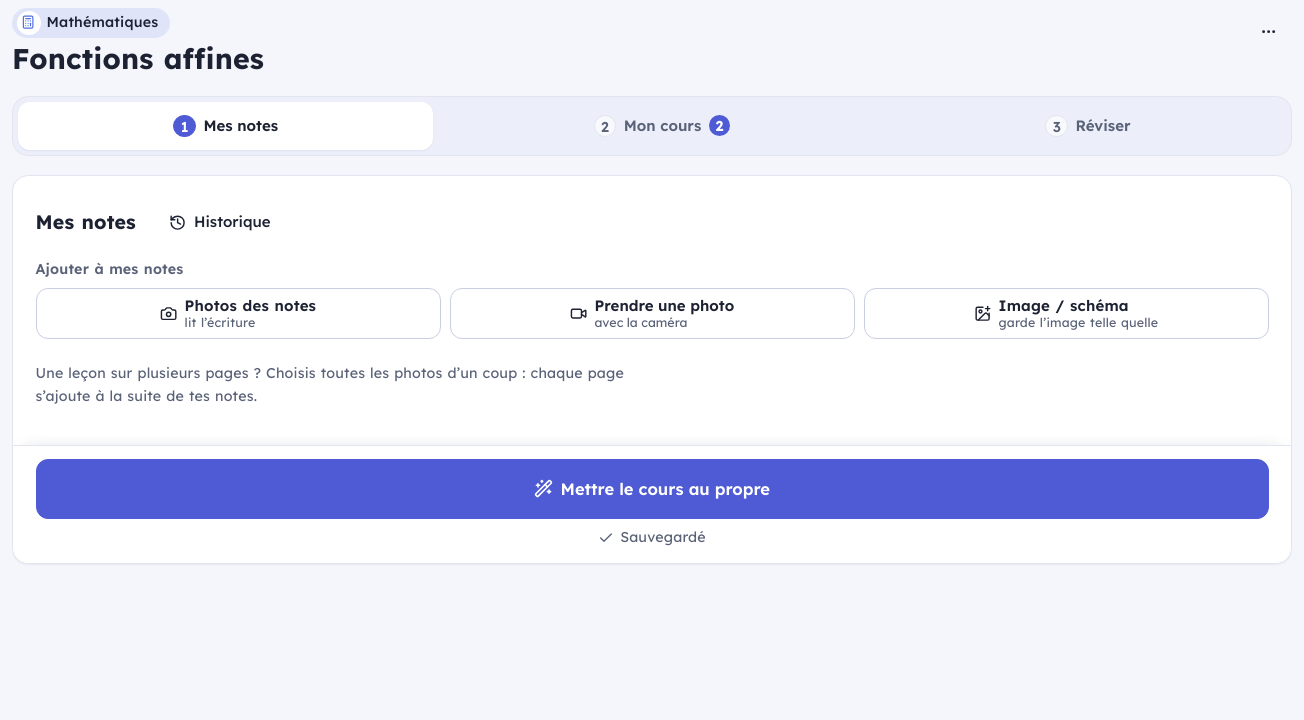
ChapterView › renomme le chapitre depuis le menu
Click the button named "Plus d" at (1269, 32), box [1246,8,1292,56]
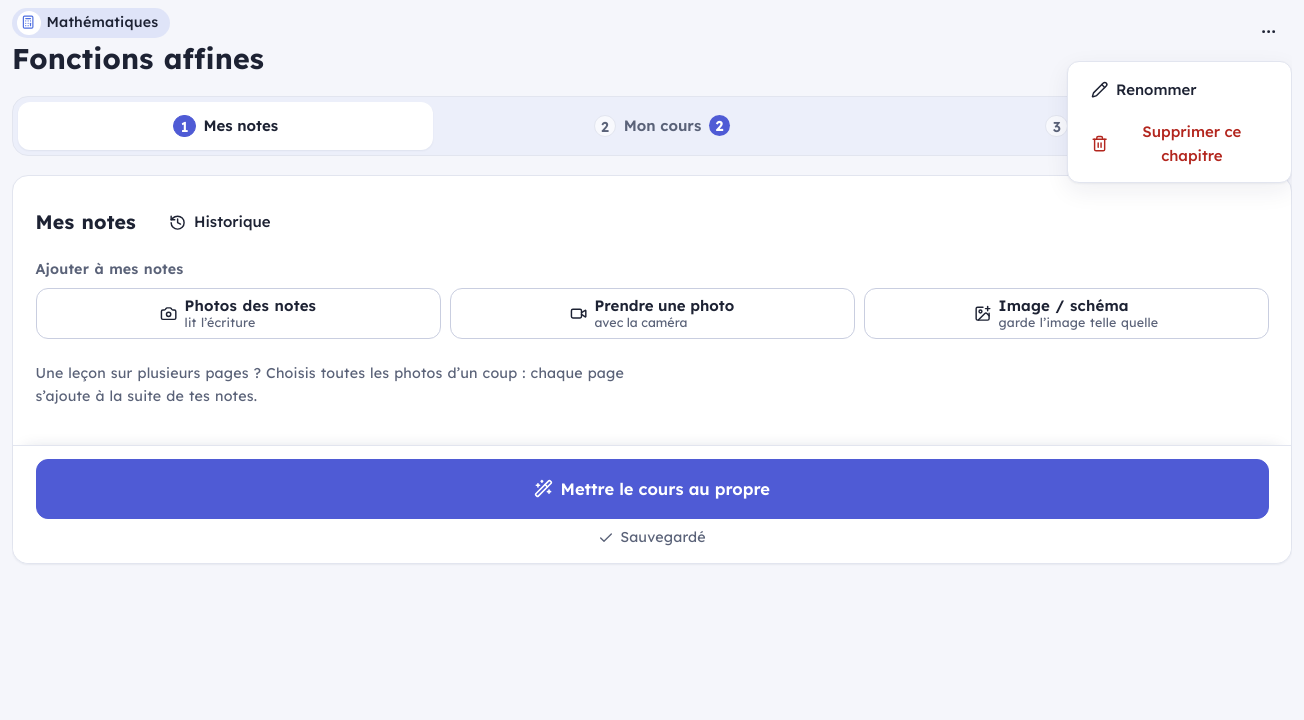
Click the button "Renommer" at (1180, 90), box [1074,68,1285,112]
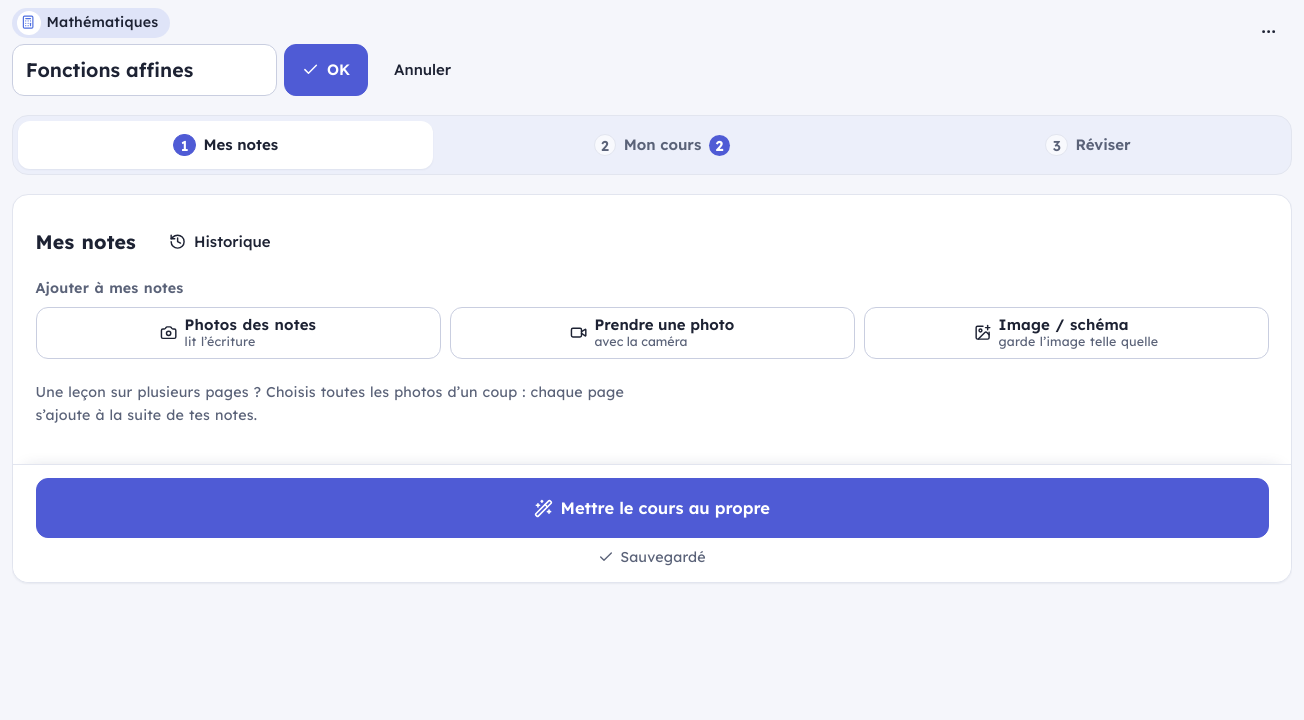
Replace the text in the field with id "rename" with "Les fonctions affines" at (144, 70), box [12,44,276,96]
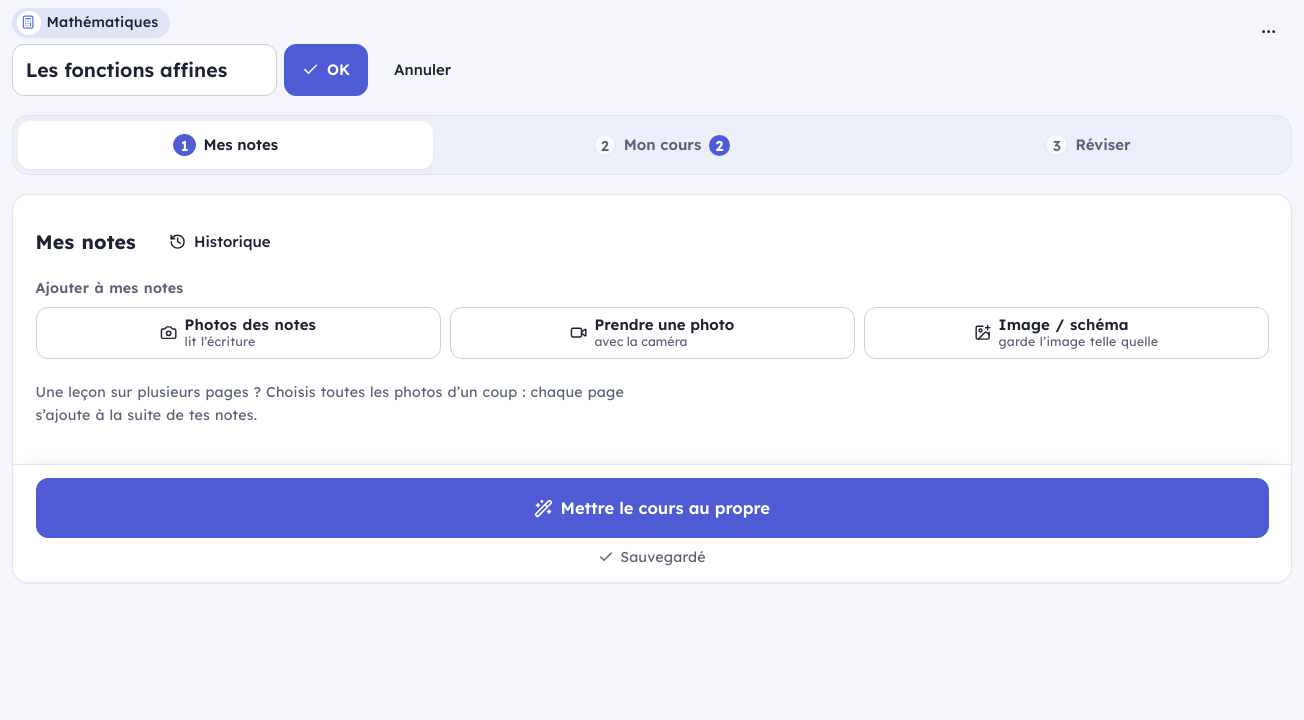
Submit the form with class "rename-form", box [12,44,469,96]
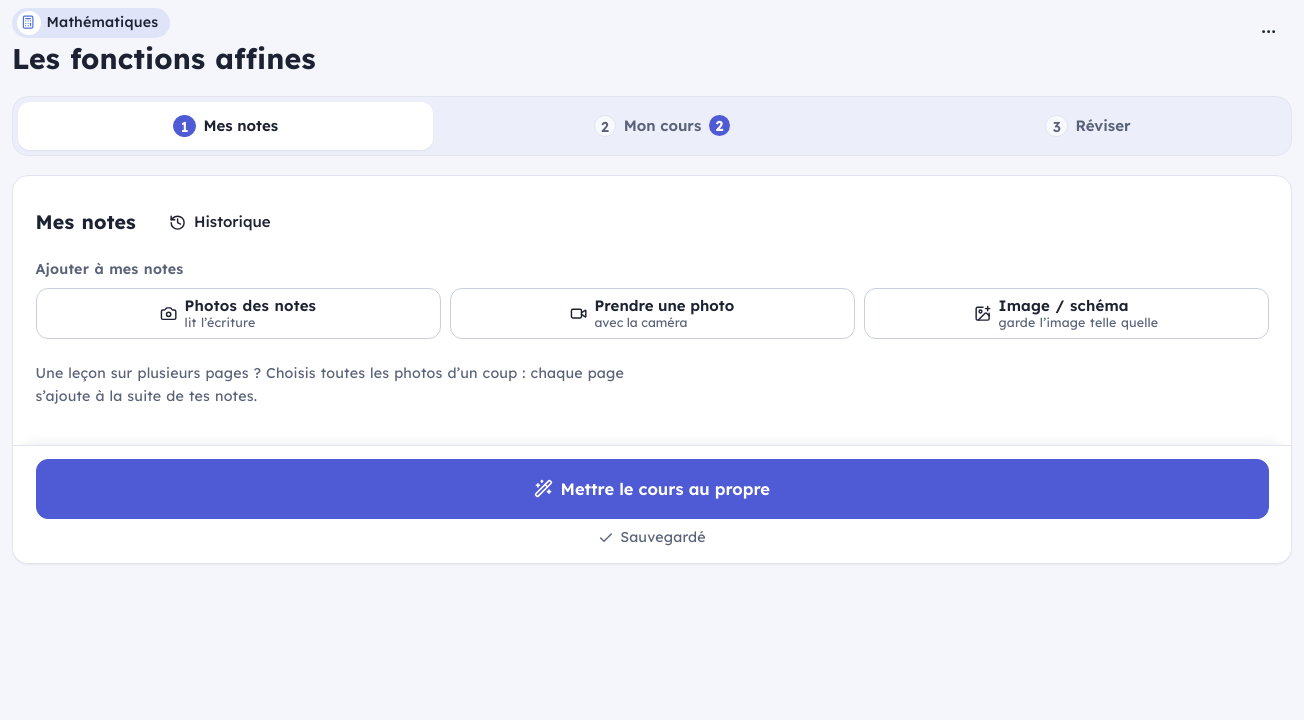
Now the heading "Les fonctions affines" is shown, box [12,41,316,77]
